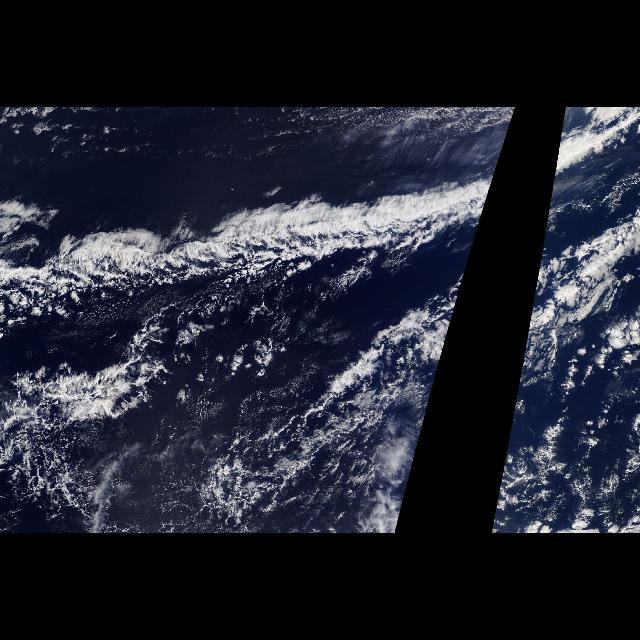Fish: (1, 158, 502, 446)
